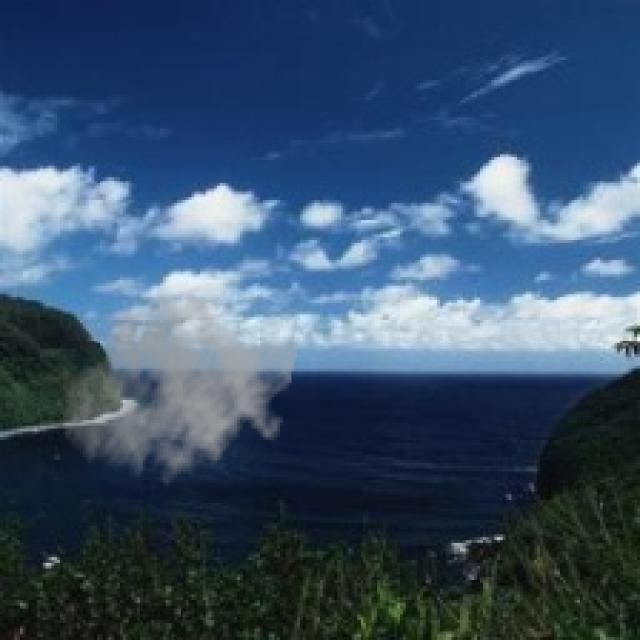smoke: (60, 283, 300, 497)
